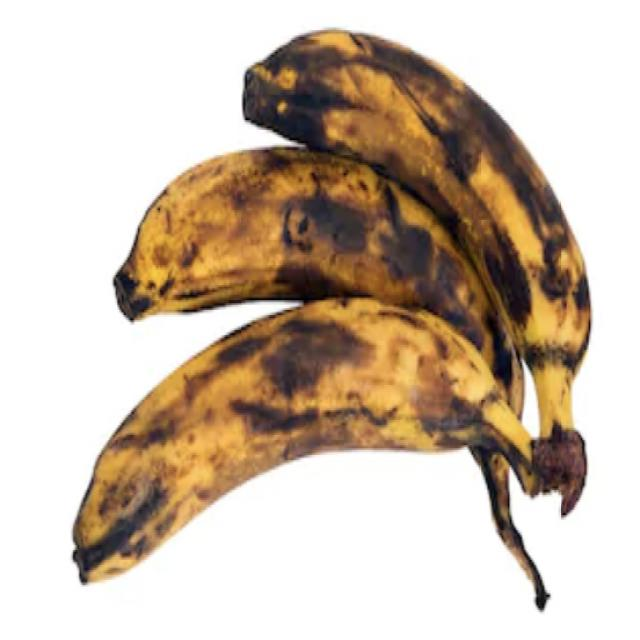rotten-banana: (64, 315, 496, 586), (243, 40, 583, 327), (120, 163, 420, 307)
